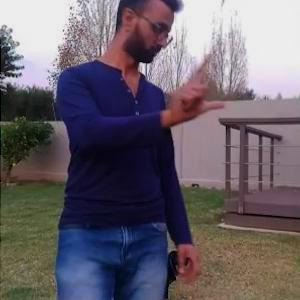land_hand: (161, 51, 229, 113)
